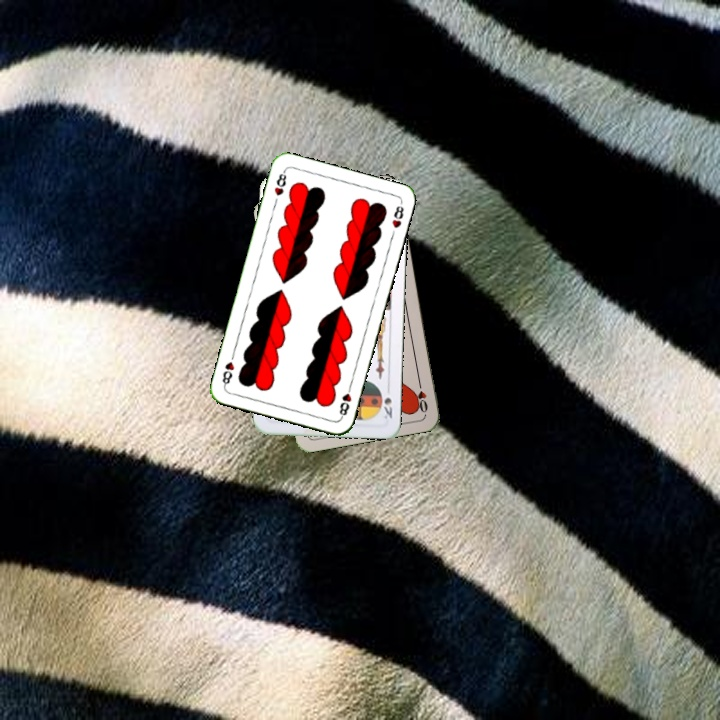H8: (335, 381, 354, 421), (270, 167, 289, 198)
HO: (412, 375, 430, 415)
SK: (380, 382, 395, 421)
